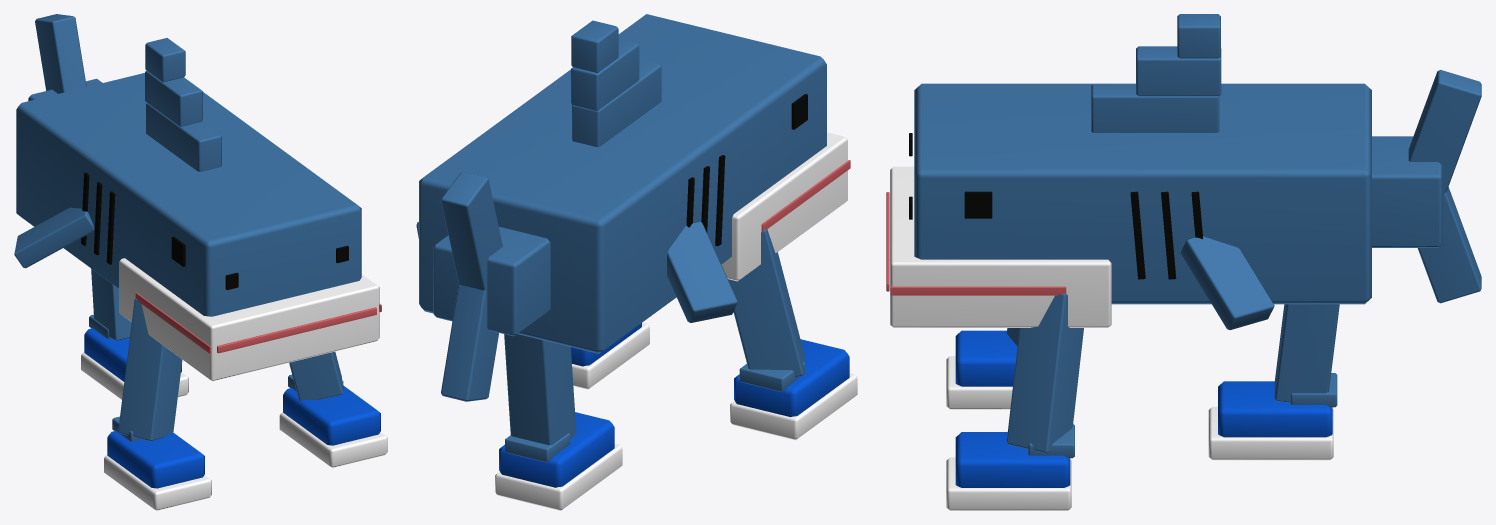
The model's file is Tralalero_Mini.glb.
The picture shows the model from 3 angles, left to right: view 1: azimuth 30°, elevation 25°; view 2: azimuth 150°, elevation 25°; view 3: azimuth 270°, elevation 25°; orthographic projection. The views are drawn at different scales.
Parts seen in each view (by area): view 1: Tralalero_Mini; view 2: Tralalero_Mini; view 3: Tralalero_Mini.
Part boxes in pixels (x1=…): Tralalero_Mini: x1=14, y1=14, x2=387, y2=510; Tralalero_Mini: x1=416, y1=14, x2=857, y2=510; Tralalero_Mini: x1=886, y1=14, x2=1481, y2=510.
Bounding box in the file's own units: 3.64 × 4.62 × 5.86.
1 material, 1 textured.
